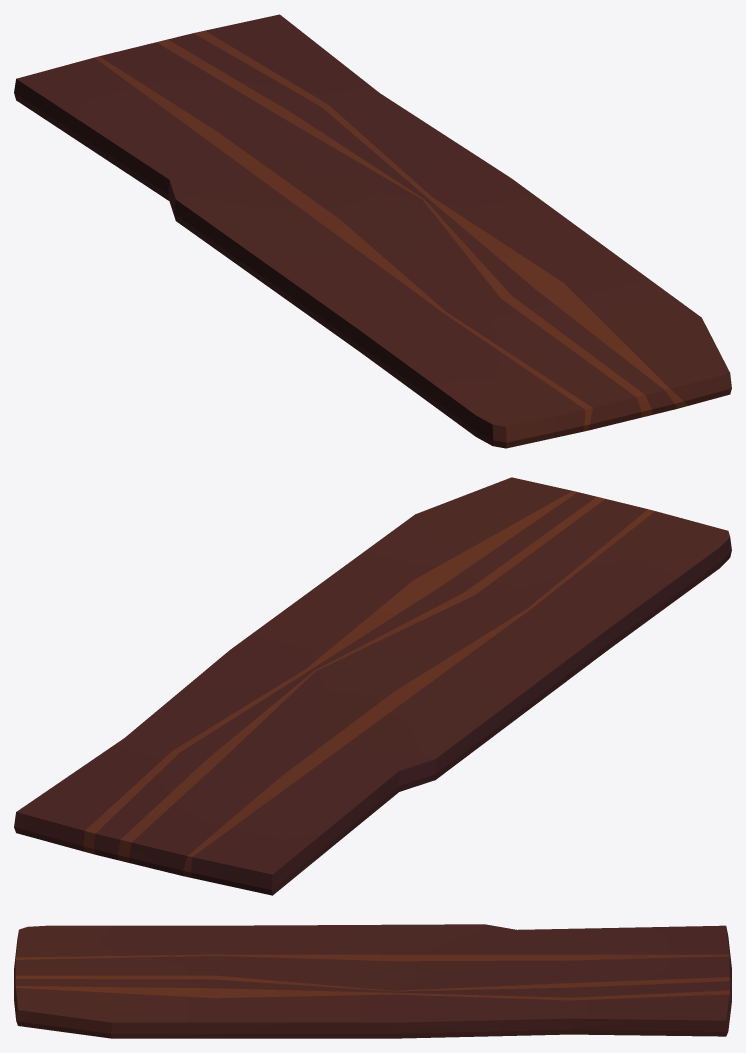
Rendered from Prop_WoodPlank03.fbx.
The picture shows the model from 3 angles, top to bottom: view 1: azimuth 30°, elevation 25°; view 2: azimuth 150°, elevation 25°; view 3: azimuth 270°, elevation 25°; orthographic projection. The views are drawn at different scales.
Parts seen in each view (by area): view 1: Cube.463; view 2: Cube.463; view 3: Cube.463.
Part boxes in pixels (x1,y1,x2,y2): Cube.463: (14,14,731,448); Cube.463: (14,477,731,895); Cube.463: (14,924,731,1038).
Size of the model in its own units: 66.29 by 4.98 by 203.
